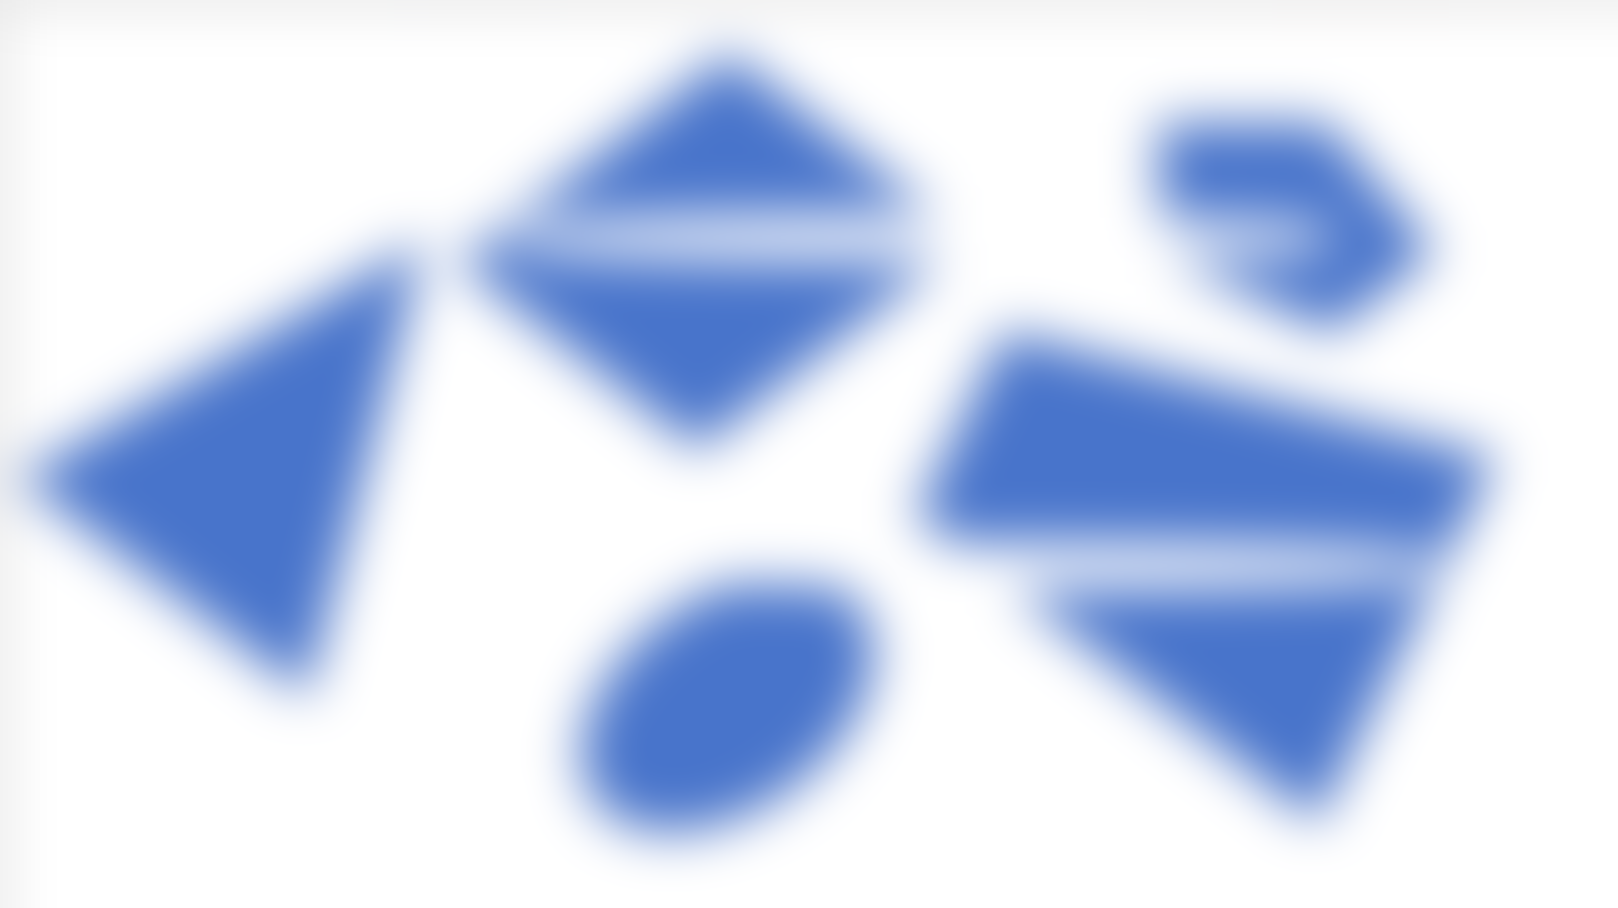circle: (580, 561, 883, 844)
parallelogram: (448, 42, 951, 447)
pentagon: (1130, 69, 1449, 335)
trapezium: (908, 305, 1535, 826)
triangle: (24, 257, 451, 689)
